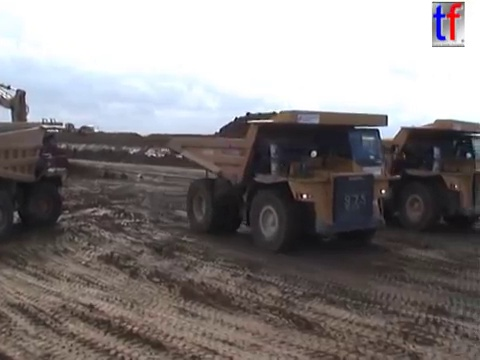excavator: (1, 82, 32, 143)
truck: (165, 107, 408, 253), (374, 117, 480, 232), (257, 122, 389, 211), (1, 117, 72, 242)
